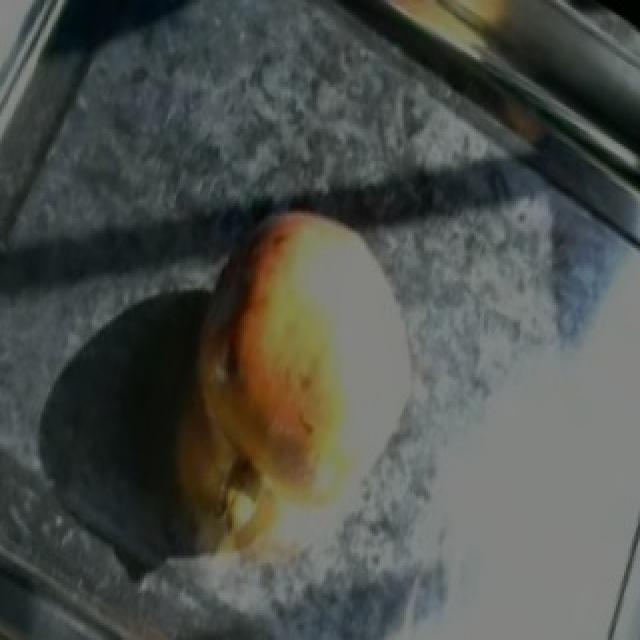fruit: (174, 179, 430, 404)
